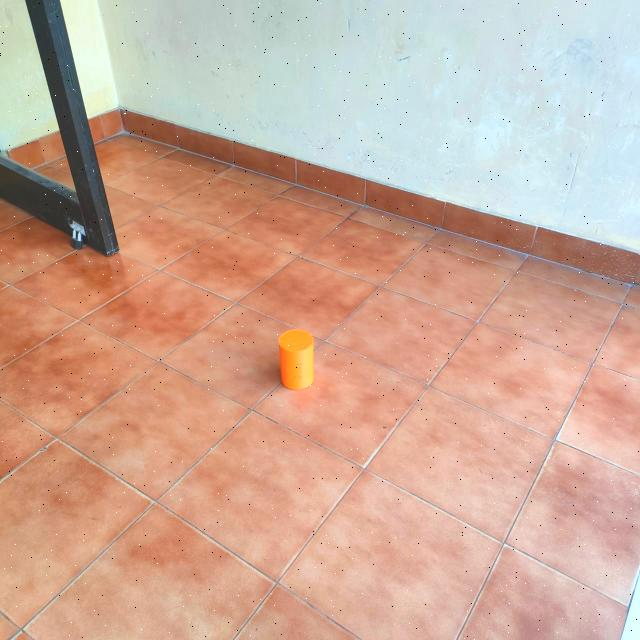Cylinder: (277, 328, 315, 390)
